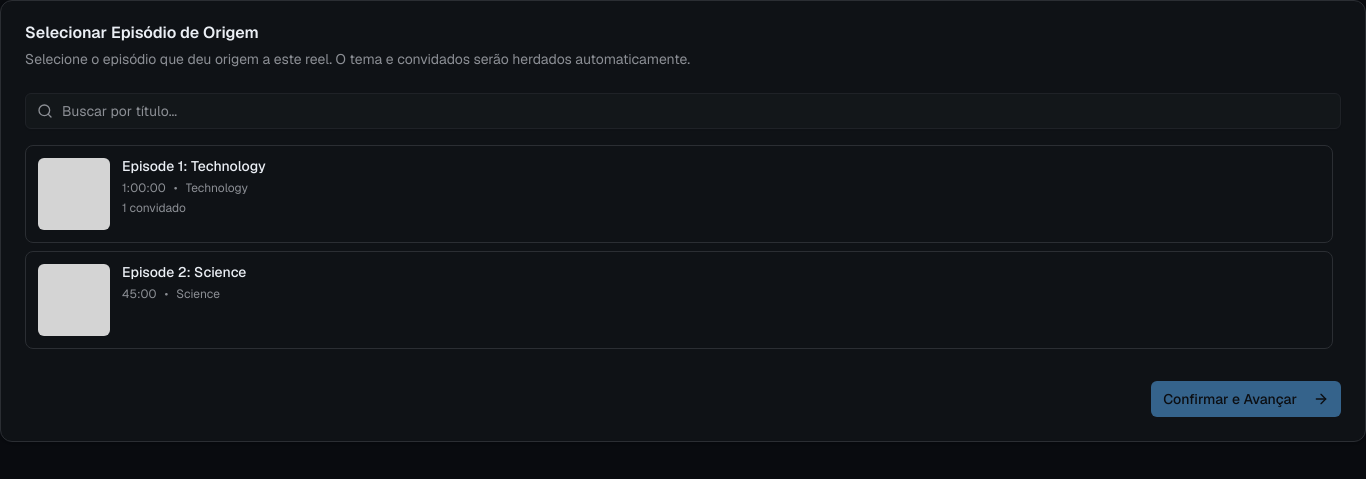
it: Phase0ParentSelection › Search functionality › shows hint when search has less than 5 characters
Type "abc" into the field with placeholder "Buscar por título...". click: (683, 111)
box: [25,93,1341,129]
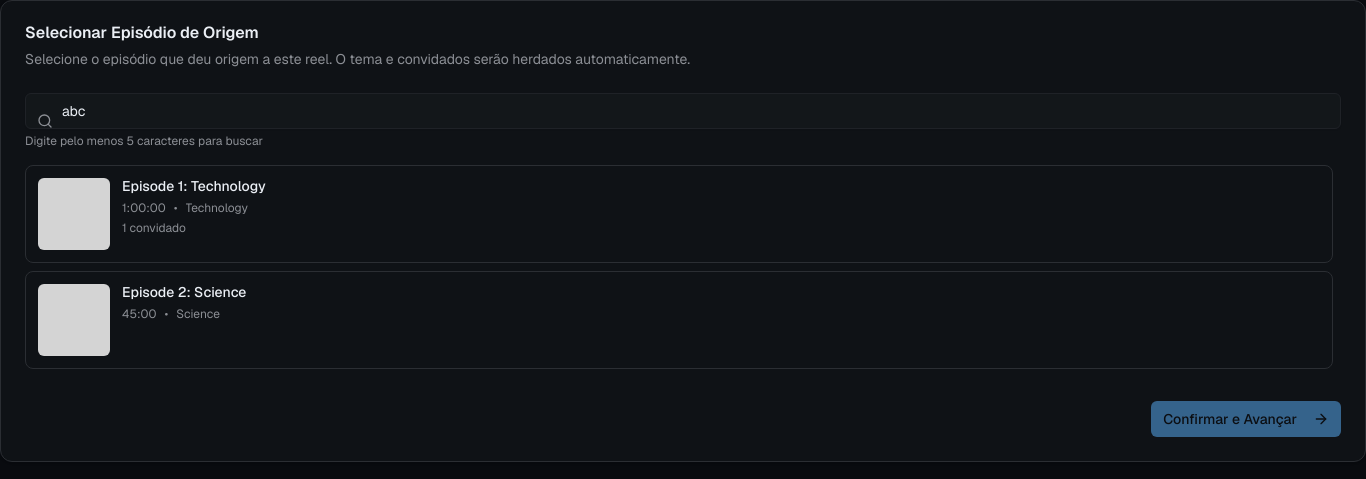
Now the text "Digite pelo menos 5 caracteres para buscar" is shown, box [25,133,263,149]
